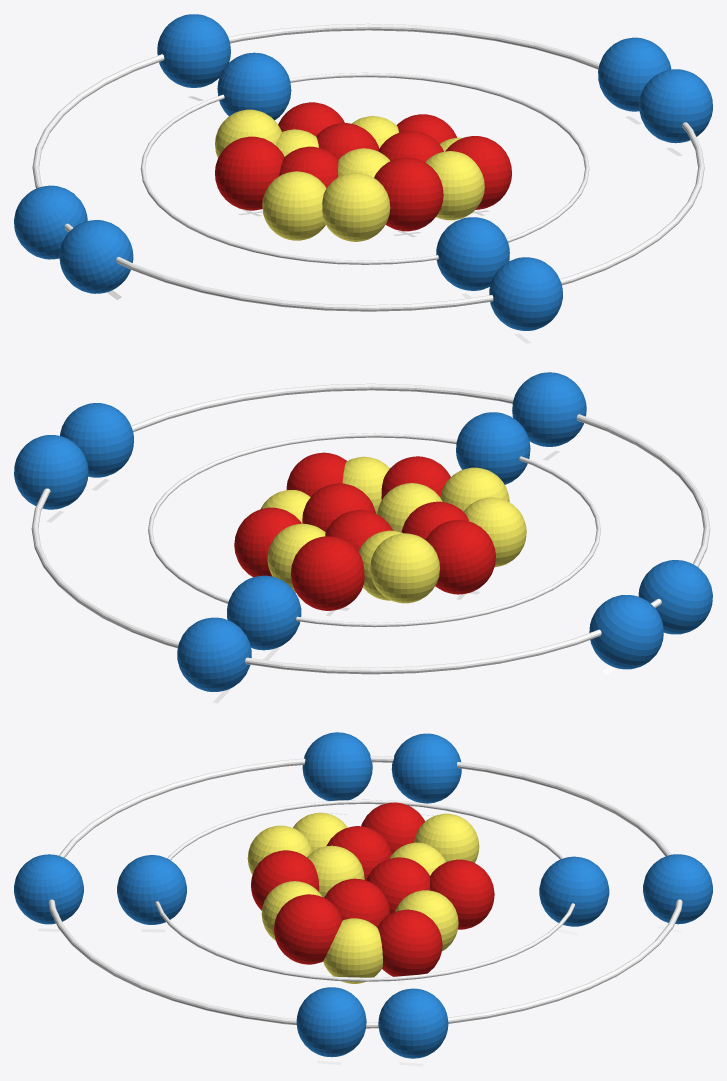
3 views of the same model, one above another, from view 1: azimuth 30°, elevation 25°; view 2: azimuth 150°, elevation 25°; view 3: azimuth 270°, elevation 25° (orthographic). The views are drawn at different scales.
Visible parts, largest first — view 1: Torus.002, Torus.001, -.005, -.004, -.003, -.002, -, Sphere.003, -.001, f.006, -.006, f.002 (+13 smaller); view 2: Torus.002, Torus.001, f.007, -.004, -.006, -.007, -.005, -.001, -.003, Sphere.008, -, f.006 (+14 smaller); view 3: Torus.002, Torus.001, -.007, -.002, -.006, -.003, -, -.001, -.005, -.004, f.004, f.005 (+14 smaller).
Boxes of the visible parts, x1,y1,x2,y2 form: Torus.002: (32,23,704,311); Torus.001: (140,72,589,264); -.005: (489,257,562,330); -.004: (157,14,230,87); -.003: (59,220,133,293); -.002: (639,69,712,143); -: (436,217,509,290); Sphere.003: (322,172,390,241); -.001: (217,52,291,120); f.006: (215,136,284,210); -.006: (14,185,87,259); f.002: (374,157,443,231); Torus.002: (31,383,710,674); Torus.001: (148,433,600,627); f.007: (291,536,364,610); -.004: (177,617,251,691); -.006: (589,595,663,669); -.007: (14,435,88,509); -.005: (512,372,586,446); -.001: (227,575,301,650); -.003: (638,560,712,634); Sphere.008: (370,533,439,603); -: (456,412,530,484); f.006: (425,519,495,594); Torus.002: (48,756,682,1028); Torus.001: (155,799,574,981); -.007: (378,988,448,1058); -.002: (296,987,366,1057); -.006: (391,733,461,803); -.003: (302,732,372,801); -: (117,855,186,924); -.001: (539,856,609,926); -.005: (14,854,83,924); -.004: (643,854,712,924); f.004: (274,894,342,964); f.005: (377,909,442,976).
Size of the model in its own units: 4.67 by 0.6896 by 4.64.
